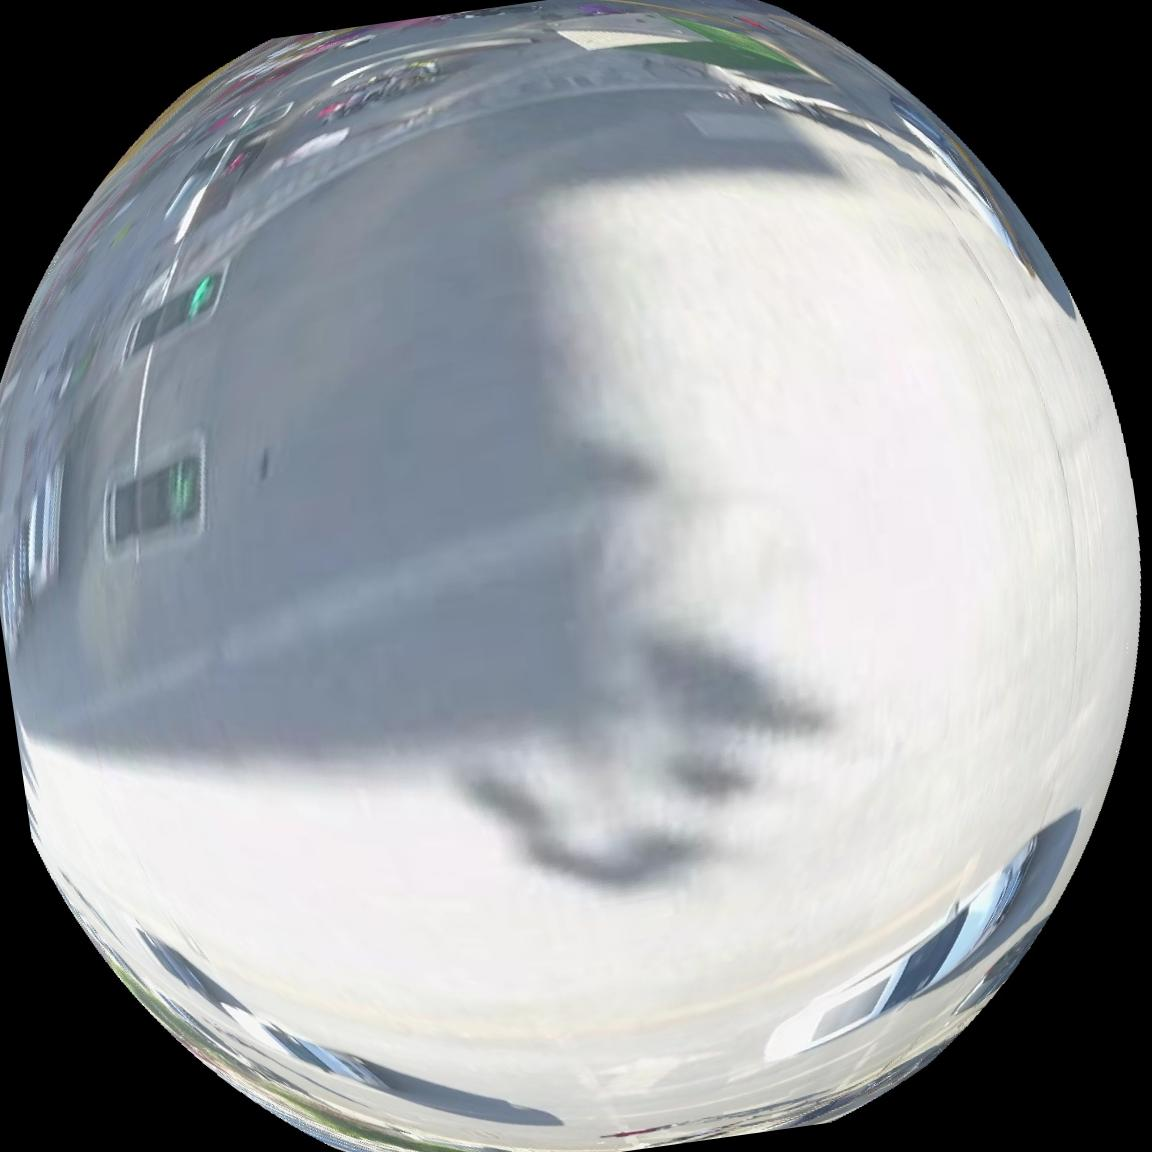cars: (766, 841, 1037, 1060), (260, 1024, 385, 1090), (136, 929, 218, 1002), (24, 460, 61, 593)
